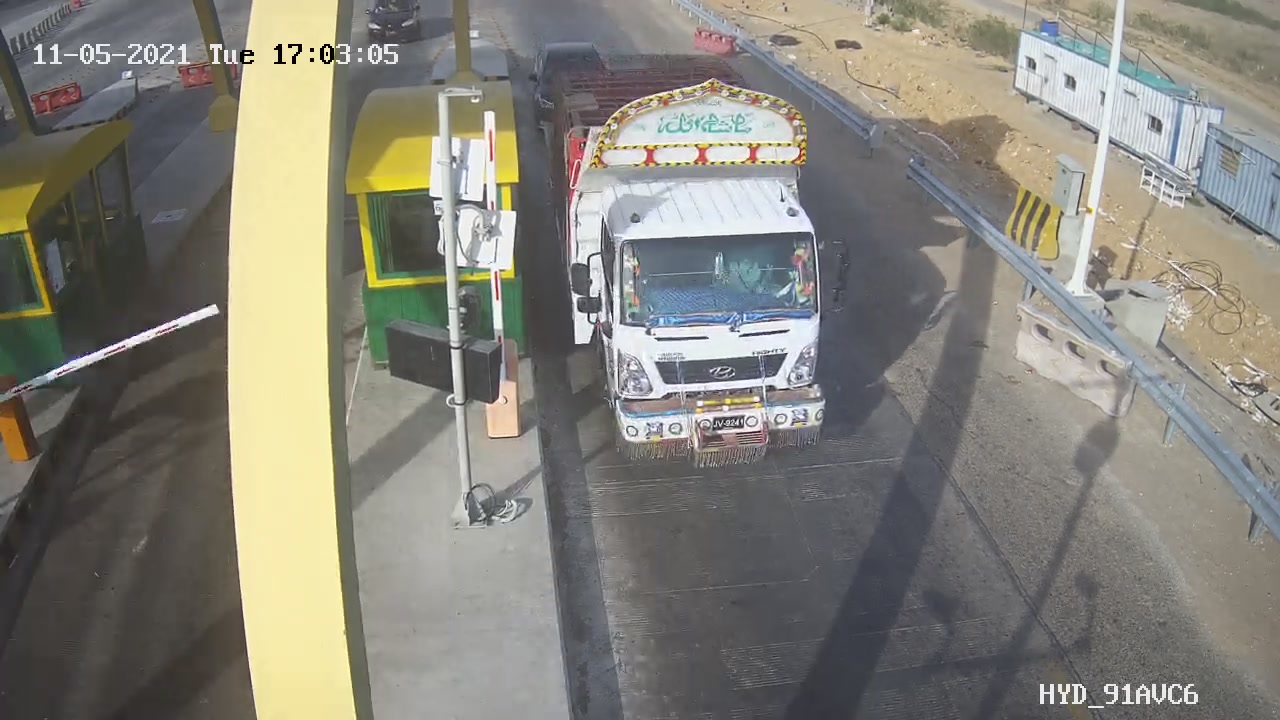F5: (538, 35, 856, 488)
